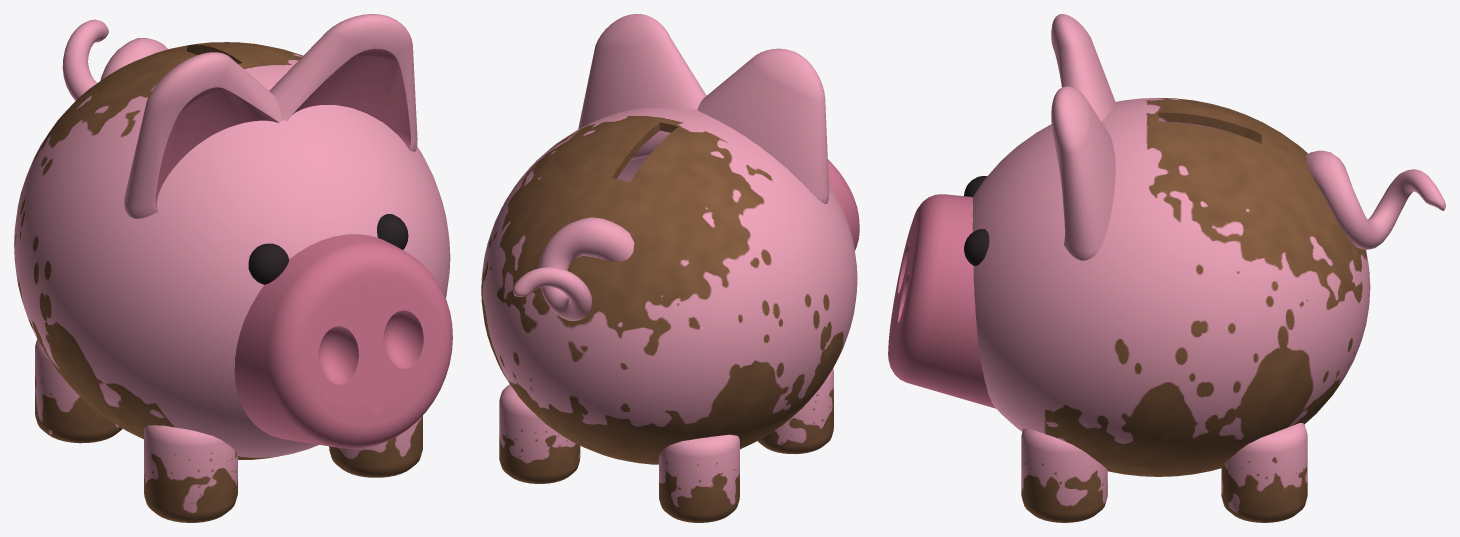
Rendered from muddy-complete.fbx.
3 views of the same model, side by side, from view 1: azimuth 30°, elevation 25°; view 2: azimuth 150°, elevation 25°; view 3: azimuth 270°, elevation 25° (orthographic). The views are drawn at different scales.
Parts seen in each view (by area): view 1: Body, Snout, Ears, Legs, Tail, Eyes; view 2: Body, Ears, Legs, Tail, Snout; view 3: Body, Snout, Legs, Ears, Tail, Eyes.
Boxes of the visible parts, x1,y1,x2,y2 form: Body: (14, 42, 450, 459); Snout: (234, 234, 452, 448); Ears: (124, 14, 417, 218); Legs: (35, 339, 422, 522); Tail: (62, 19, 167, 100); Eyes: (248, 214, 408, 284); Body: (481, 107, 857, 464); Ears: (578, 14, 829, 203); Legs: (499, 368, 833, 522); Tail: (513, 217, 634, 321); Snout: (828, 159, 859, 250); Body: (972, 97, 1370, 476); Snout: (888, 194, 996, 408); Legs: (1021, 423, 1307, 522); Ears: (1051, 14, 1115, 260); Tail: (1305, 150, 1445, 249); Eyes: (964, 176, 989, 265).
Size of the model in its own units: 1200 by 1397 by 1708.
3 materials, 2 textured.
